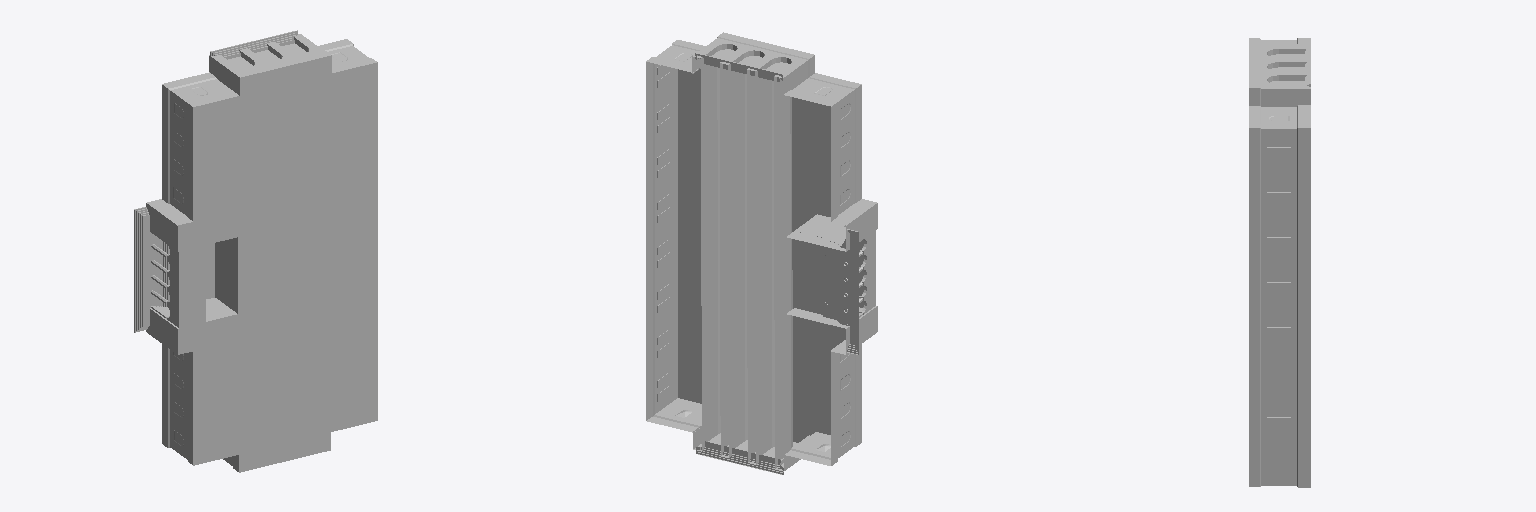
The model's file is varoshaza.obj.
3 renders of one model, left to right at view 1: azimuth 30°, elevation 25°; view 2: azimuth 150°, elevation 25°; view 3: azimuth 270°, elevation 25°, orthographic.
Visible parts, largest first — view 1: LAcityhall1_LAn; view 2: LAcityhall1_LAn; view 3: LAcityhall1_LAn.
Boxes of the visible parts, x1,y1,x2,y2 form: LAcityhall1_LAn: [134, 30, 377, 472]; LAcityhall1_LAn: [646, 32, 877, 474]; LAcityhall1_LAn: [1249, 38, 1310, 487].
Bounding box in the file's own units: 78.83 × 142 × 20.09.